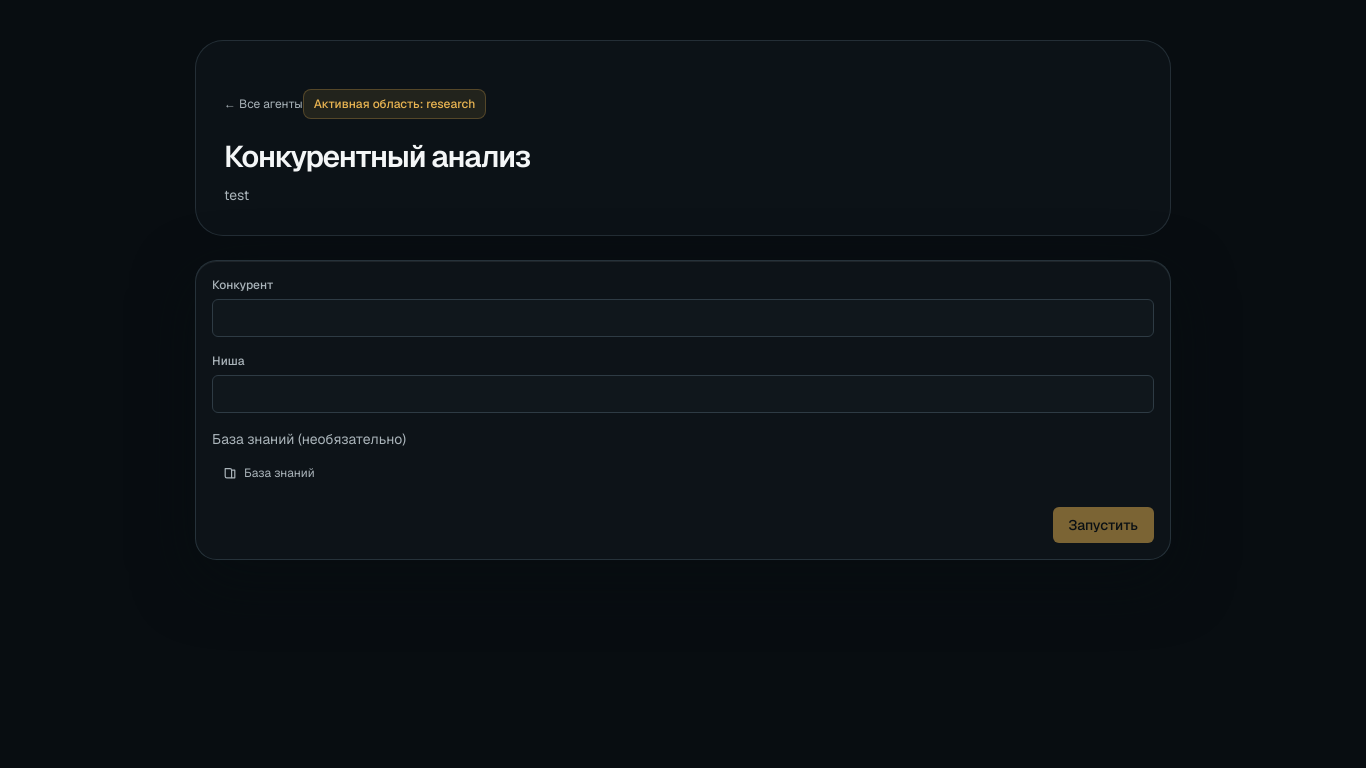
AgentRunPage › renders the competitor-analysis result shape
Type "Acme Corp" into the field labelled "Конкурент" at (683, 318), box [212, 299, 1154, 337]
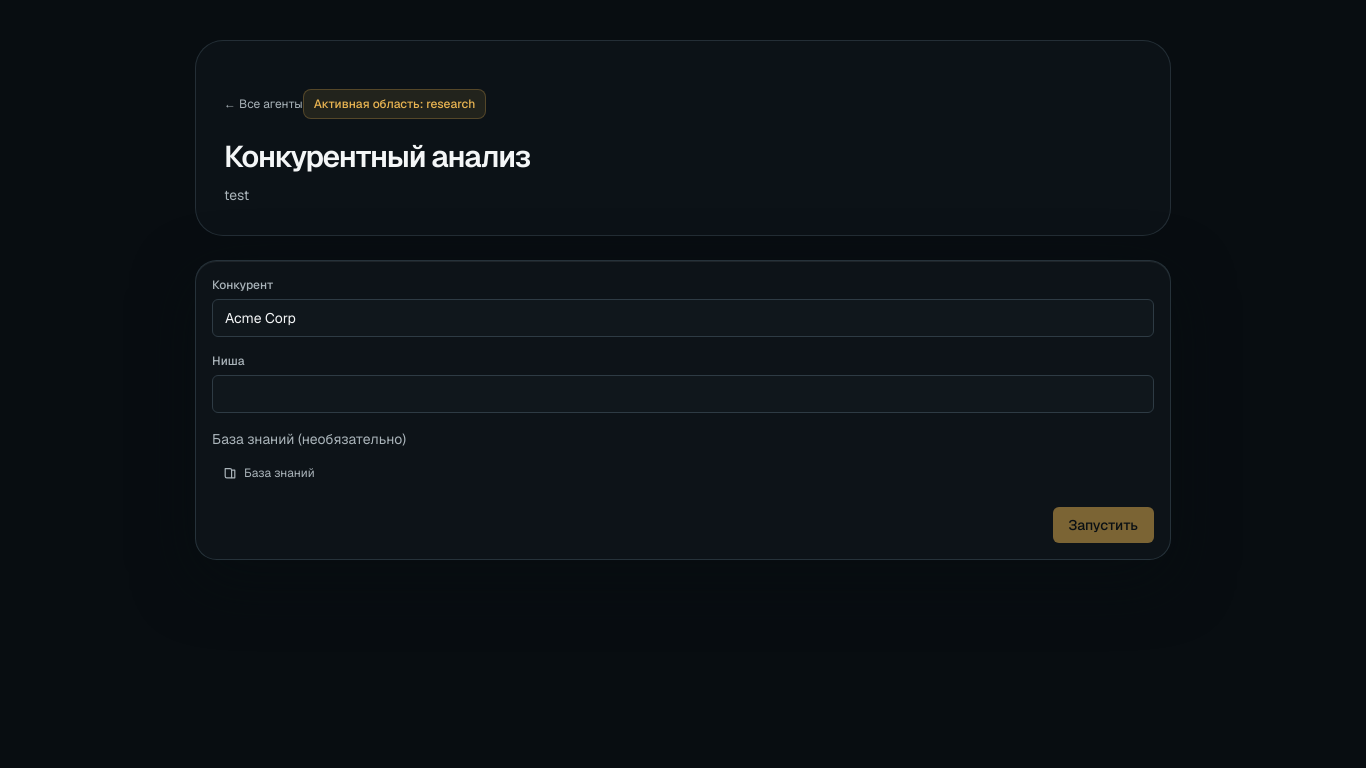
Type "SaaS" into the field labelled "Ниша" at (683, 394), box [212, 375, 1154, 413]
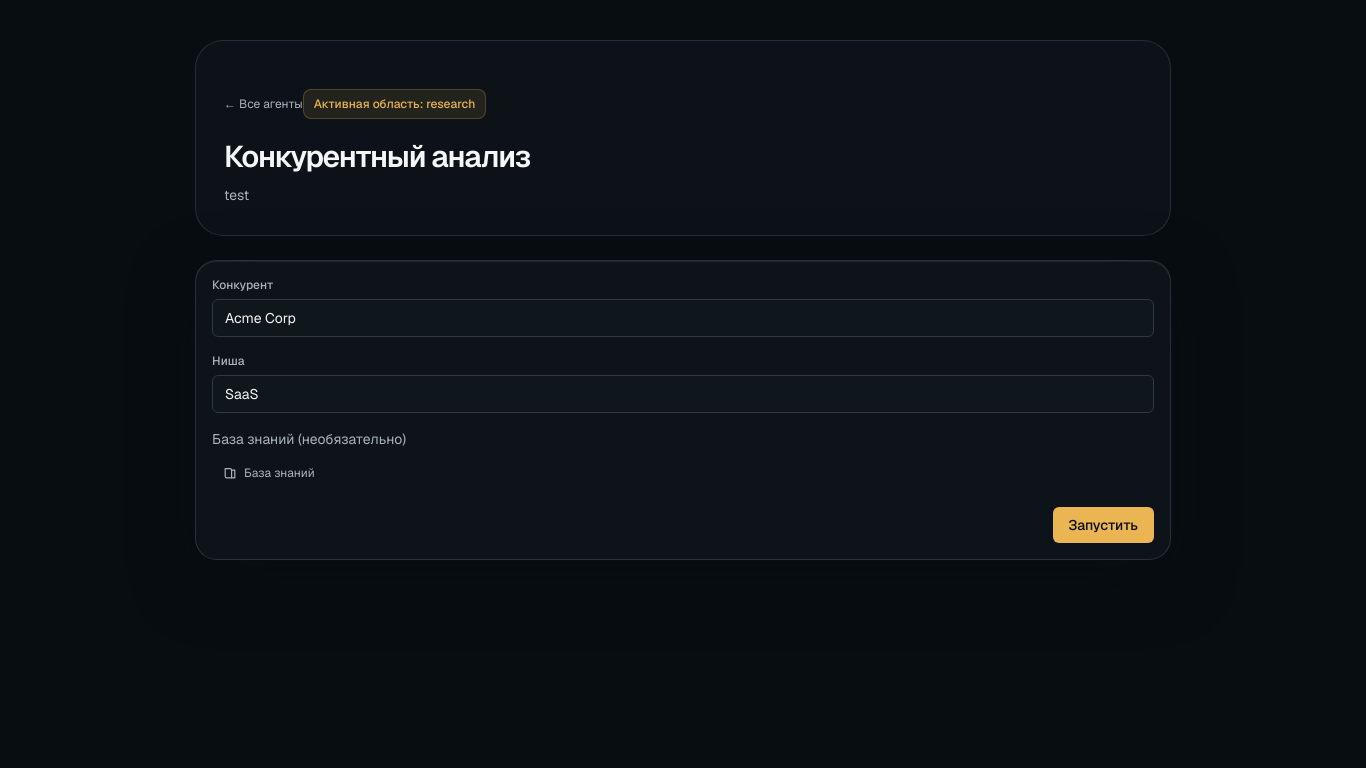
Click the button "Запустить" at (1103, 525), box [1052, 507, 1154, 543]
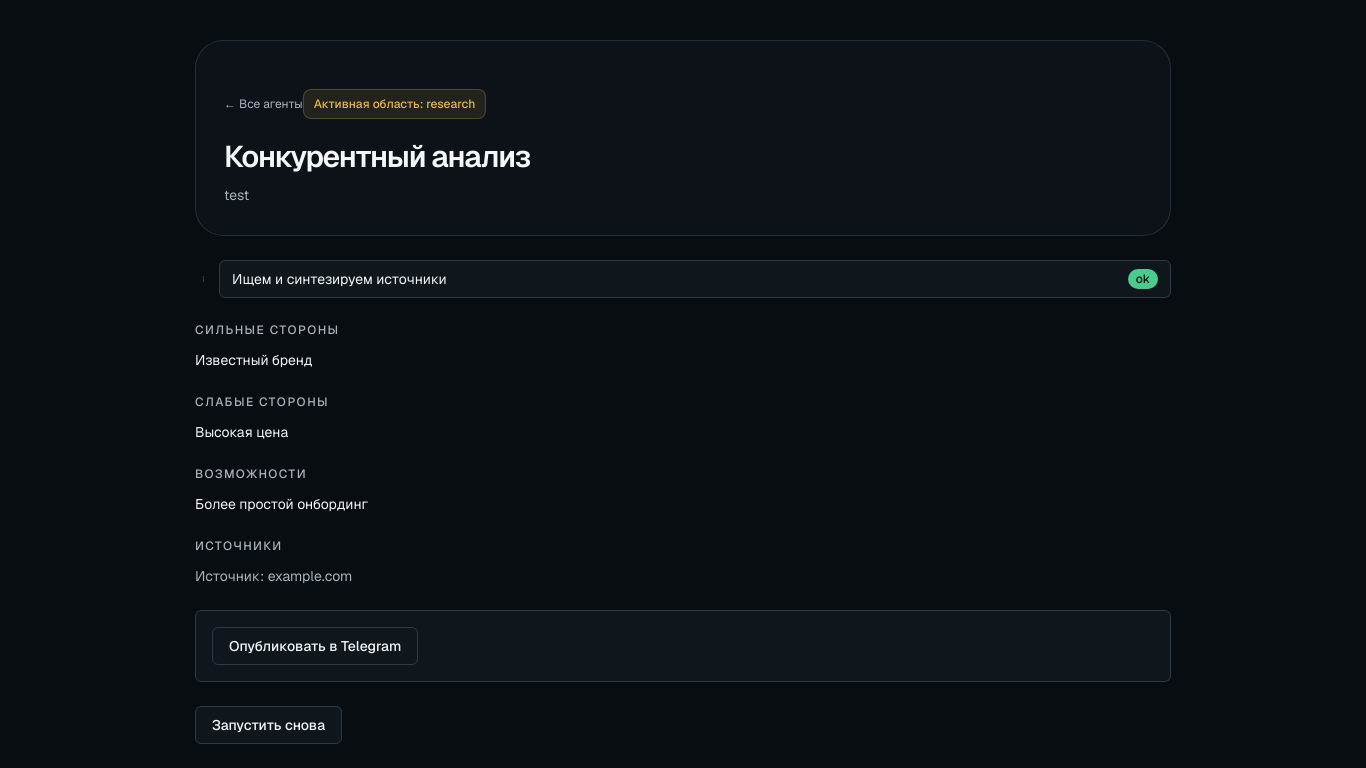
Check: the heading "Возможности" is shown, box [195, 466, 307, 482]
Check: the list item "Более простой онбординг" is shown, box [195, 495, 368, 513]
